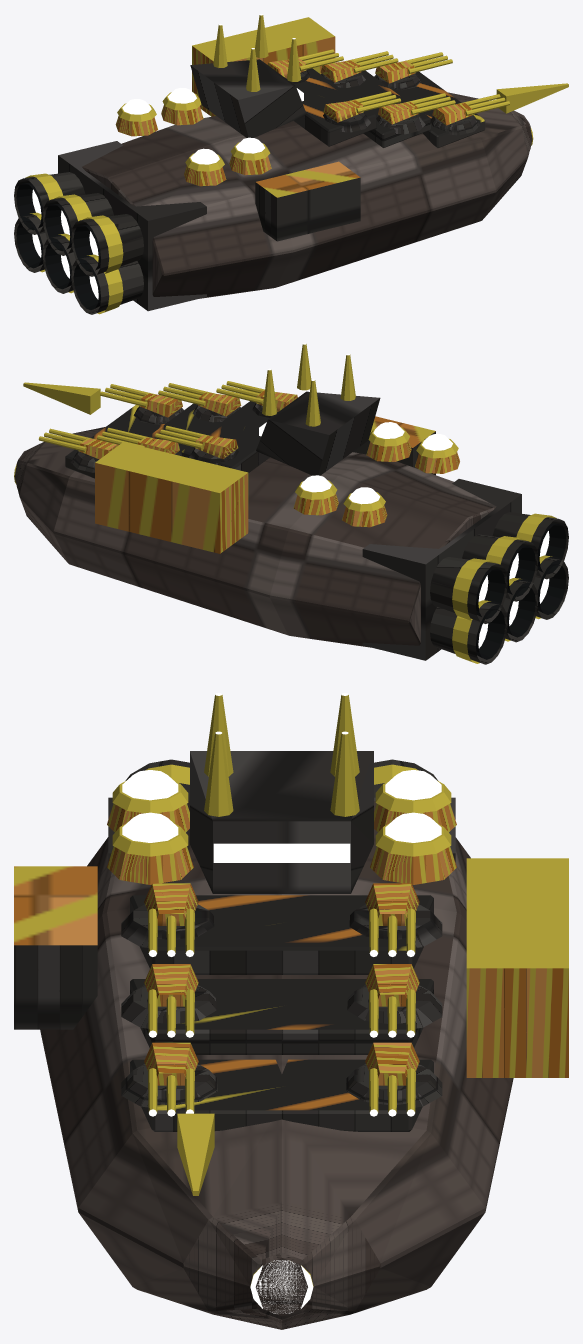
Rendered from dreadnought.glb.
The picture shows the model from 3 angles, top to bottom: view 1: azimuth 30°, elevation 25°; view 2: azimuth 150°, elevation 25°; view 3: azimuth 270°, elevation 25°; orthographic projection. The views are drawn at different scales.
Visible parts, largest first — view 1: hull_body, engine_block, weapon_turrets, sensor_tower, shield_domes; view 2: hull_body, engine_block, weapon_turrets, sensor_tower, shield_domes; view 3: hull_body, weapon_turrets, sensor_tower, shield_domes, engine_block.
Boxes of the visible parts, x1,y1,x2,y2 form: hull_body: (82,17,568,298); engine_block: (14,141,206,314); weapon_turrets: (267,49,533,145); sensor_tower: (190,14,306,137); shield_domes: (115,88,271,186); hull_body: (14,382,496,647); engine_block: (362,479,568,664); weapon_turrets: (14,381,297,483); sensor_tower: (256,343,380,475); shield_domes: (293,422,459,527); hull_body: (14,801,568,1329); weapon_turrets: (121,883,442,1313); sensor_tower: (190,693,373,893); shield_domes: (107,770,456,884); engine_block: (108,759,455,862).
Size of the model in its own units: 80 by 36.43 by 40.78.
1 material, 1 textured.
